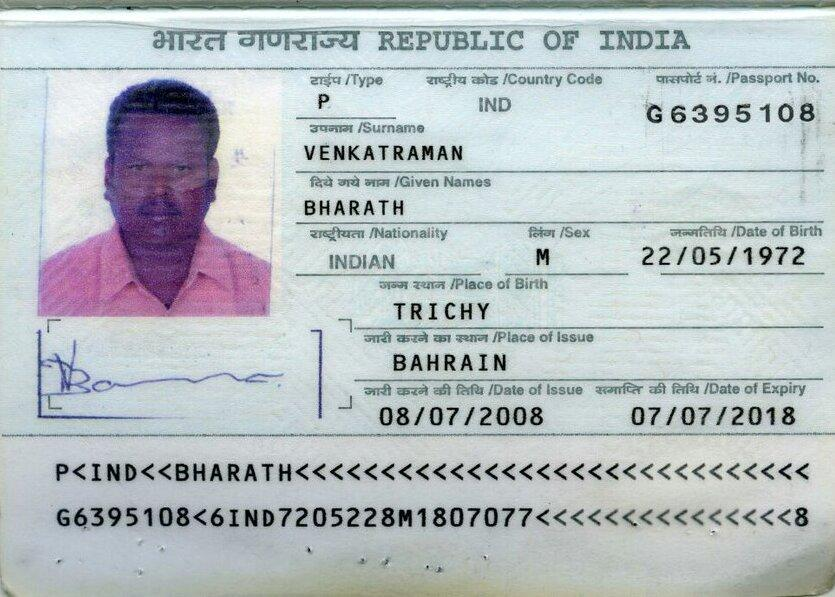DOB: (633, 238, 829, 279)
Surname: (301, 130, 493, 167)
country_code: (460, 91, 551, 123)
date_of_expiry: (623, 401, 821, 436)
date_of_issue: (367, 392, 575, 431)
details: (9, 451, 828, 573)
name: (291, 187, 493, 224)
nationality: (297, 241, 503, 277)
passport_no: (623, 92, 835, 131)
photo: (48, 72, 271, 317)
place_of_birth: (389, 284, 529, 335)
place_of_issue: (380, 344, 534, 383)
sex: (527, 234, 599, 274)
sign: (16, 333, 313, 420)
type: (297, 85, 381, 119)
